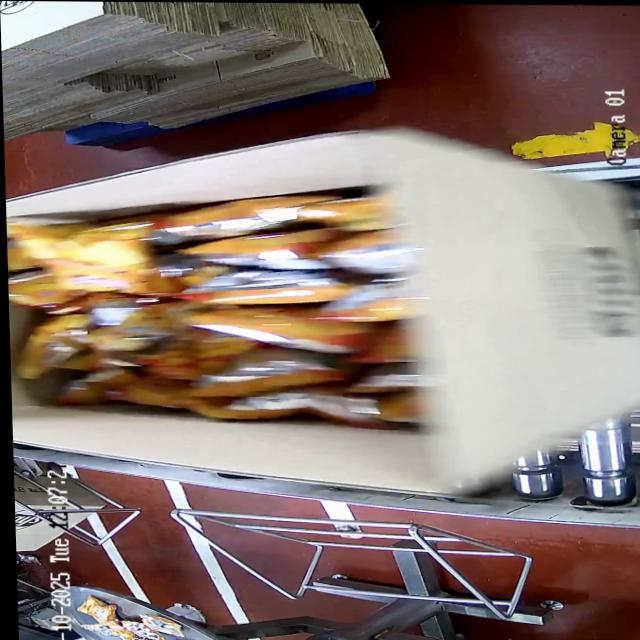FRENCH_CHEESE: (7, 210, 417, 427)
